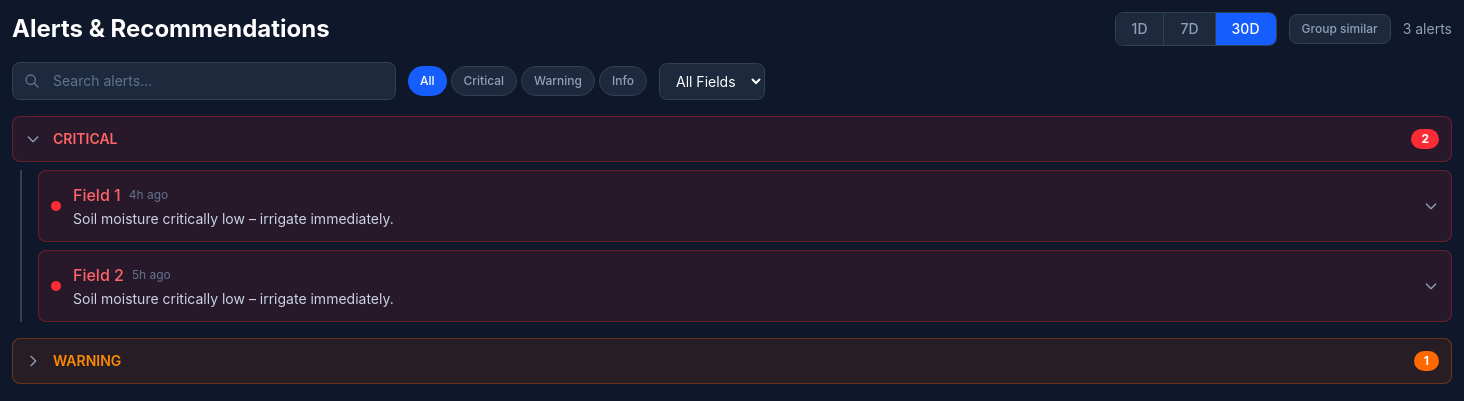
Test: AlertsList (v2.1 – Phase 6) › aggregation groups same-type alerts and shows count
The width and height of the screenshot is (1464, 401).
Expected: the heading "Alerts & Recommendations" is shown, [12,13,330,45]
# Enable grouping
Click the button with test id "aggregate-toggle". click: click(1340, 29)
box: [1288,14,1391,44]
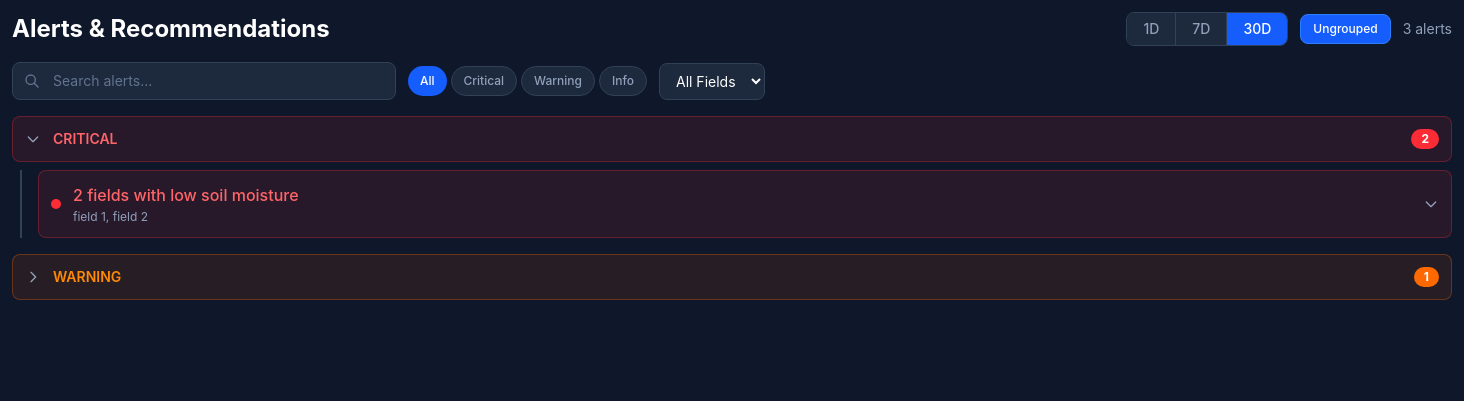
Expected: the text "2 fields with low soil moisture" is shown, [73,185,299,205]
